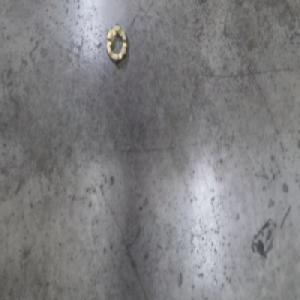Nut: (105, 23, 128, 65)
